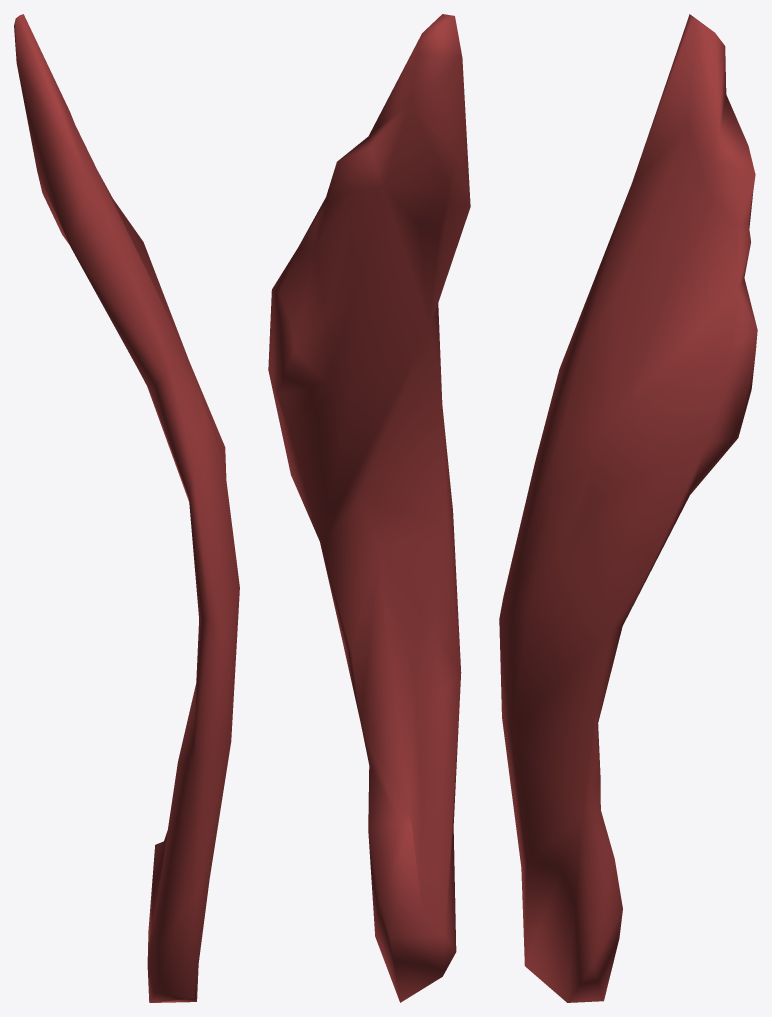
File: levator-nasolabialis-l.glb
3 views of the same model, side by side, from view 1: azimuth 30°, elevation 25°; view 2: azimuth 150°, elevation 25°; view 3: azimuth 270°, elevation 25° (orthographic). The views are drawn at different scales.
Visible parts, largest first — view 1: Levator nasolabialis.l; view 2: Levator nasolabialis.l; view 3: Levator nasolabialis.l.
Part boxes in pixels (bbox=[...]): Levator nasolabialis.l: bbox=[14, 14, 239, 1002]; Levator nasolabialis.l: bbox=[268, 14, 470, 1002]; Levator nasolabialis.l: bbox=[499, 14, 757, 1002].
Bounding box in the file's own units: 0.00545 × 0.0291 × 0.00723.
